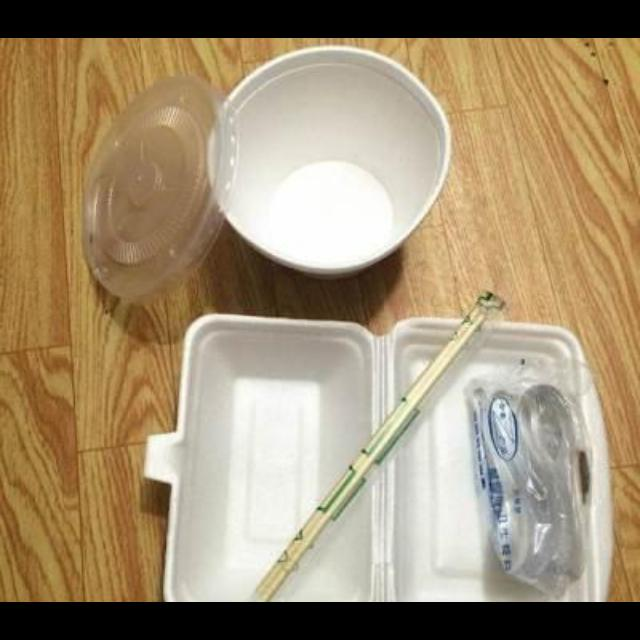plastic_box: (142, 312, 610, 600), (80, 45, 452, 299), (250, 291, 504, 599), (459, 358, 598, 598)
